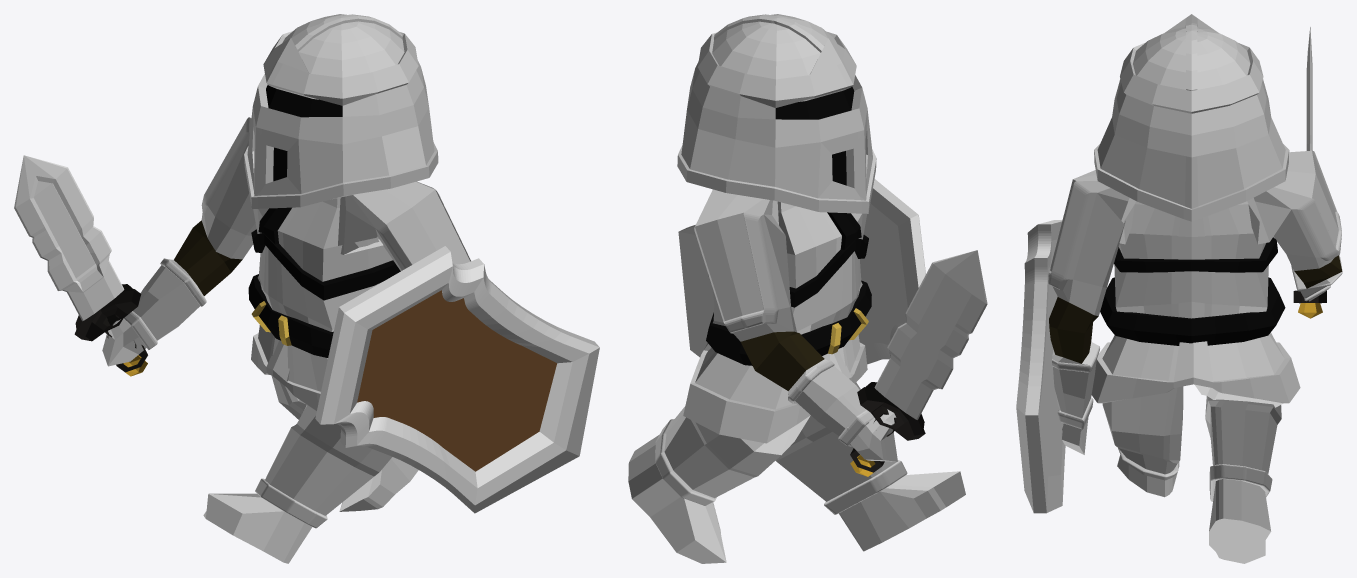
Rendered from knight.glb.
3 renders of one model, left to right at view 1: azimuth 30°, elevation 25°; view 2: azimuth 150°, elevation 25°; view 3: azimuth 270°, elevation 25°, orthographic. The views are drawn at different scales.
Visible parts, largest first — view 1: character; view 2: character; view 3: character.
Part boxes in pixels (bbox=[...]): character: bbox=[14, 14, 599, 563]; character: bbox=[628, 14, 987, 563]; character: bbox=[1016, 14, 1342, 563].
Size of the model in its own units: 3.21 by 3.65 by 2.11.
